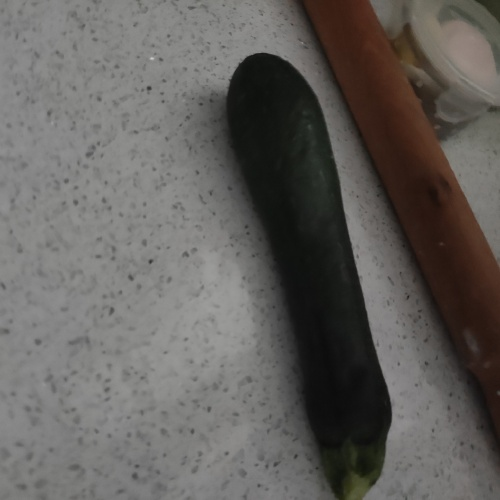zucchine: (231, 65, 405, 470)
